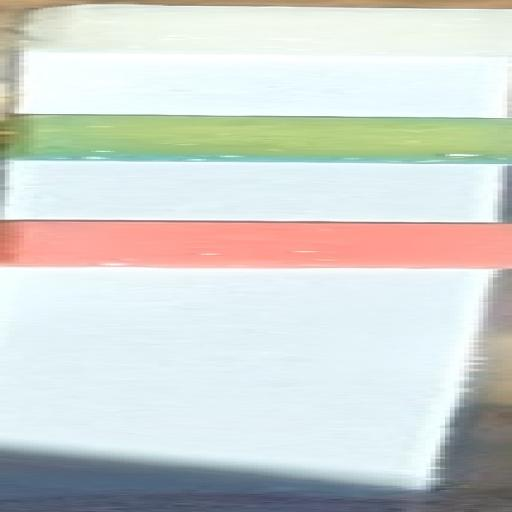pads: (0, 112, 512, 169), (0, 216, 512, 271), (0, 4, 512, 58)
